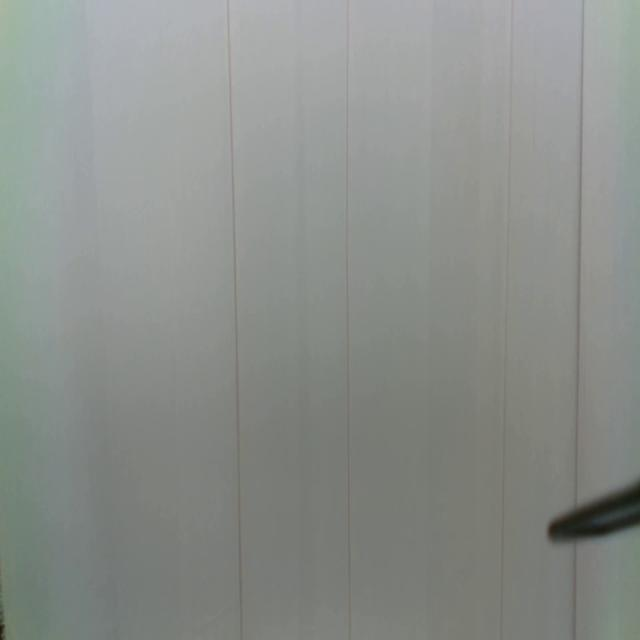crease: (226, 0, 244, 639), (499, 0, 515, 639), (343, 0, 353, 639), (574, 0, 586, 502), (571, 546, 579, 640)
